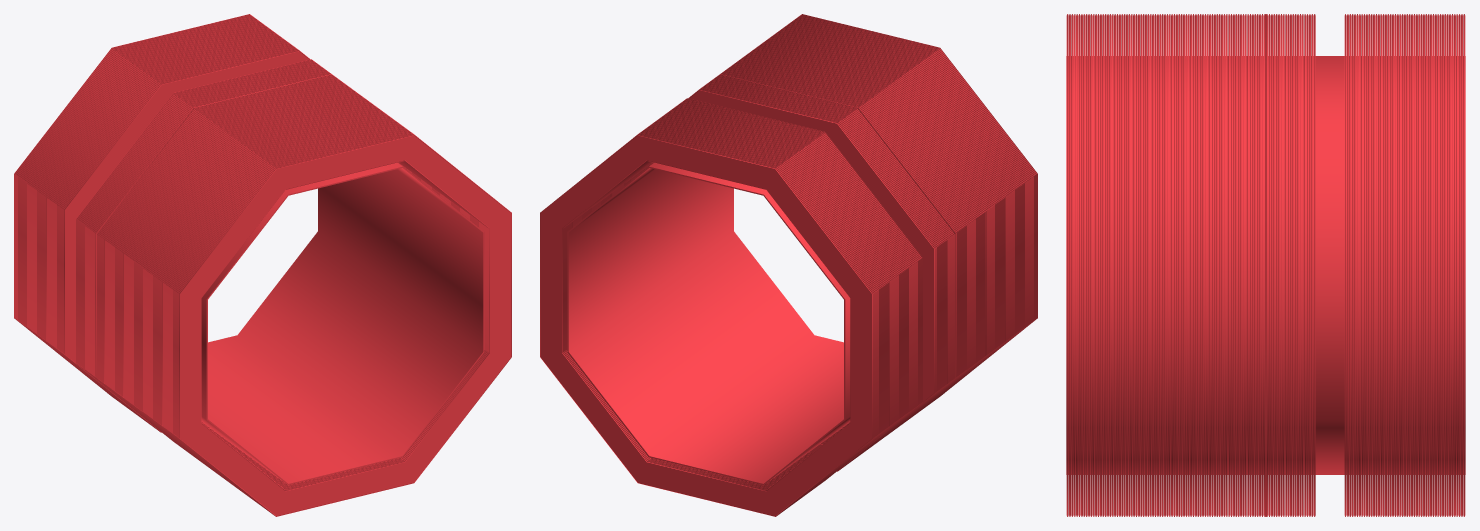
The model's file is L3_original.glb.
The picture shows the model from 3 angles, left to right: view 1: azimuth 30°, elevation 25°; view 2: azimuth 150°, elevation 25°; view 3: azimuth 270°, elevation 25°; orthographic projection. The views are drawn at different scales.
Parts seen in each view (by area): view 1: Mesh_0, L3C0_1.335, L3C0_1.101, L3CCO_1.335, L3CCI_1.335, L3CCO_1.101, L3CCO_1.049, L3CCO_1.055, L3CCO_1.191, L3CCO_1.077, L3CCO_1.299, L3CCO_1.309 (+150 smaller); view 2: Mesh_0, L3C0_1.001, L3C0_1.127, L3CCO_1.001, L3CCI_1.001, L3CCO_1.127, L3CCO_1.281, L3CCO_1.289, L3CCO_1.037, L3CCO_1.005, L3CCO_1.145, L3CCO_1.287 (+150 smaller); view 3: Mesh_0, L3C0_1.199, L3C0_1.201, L3C0_1.215, L3C0_1.217, L3C0_1.231, L3C0_1.233, L3C0_1.023, L3C0_1.247, L3C0_1.249, L3C0_1.025, L3C0_1.263 (+303 smaller).
Part boxes in pixels (x1,y1,x2,y2): Mesh_0: (201,163,484,485); L3C0_1.335: (179,135,511,515); L3C0_1.101: (64,51,309,362); L3CCO_1.335: (178,134,511,516); L3CCI_1.335: (201,160,489,490); L3CCO_1.101: (63,50,310,432); L3CCO_1.049: (37,31,273,348); L3CCO_1.055: (40,33,276,351); L3CCO_1.191: (107,82,343,446); L3CCO_1.077: (51,41,287,423); L3CCO_1.299: (160,121,396,488); L3CCO_1.309: (165,125,401,492); Mesh_0: (567,163,850,485); L3C0_1.001: (540,135,872,515); L3C0_1.127: (612,90,934,452); L3CCO_1.001: (540,134,873,516); L3CCI_1.001: (562,160,850,490); L3CCO_1.127: (688,89,935,471); L3CCO_1.281: (775,33,1011,351); L3CCO_1.289: (779,30,1015,390); L3CCO_1.037: (655,121,891,488); L3CCO_1.005: (639,133,875,500); L3CCO_1.145: (708,82,944,446); L3CCO_1.287: (778,31,1014,348); Mesh_0: (1066,56,1465,474); L3C0_1.199: (1228,15,1230,515); L3C0_1.201: (1225,15,1227,515); L3C0_1.215: (1209,15,1211,515); L3C0_1.217: (1206,15,1208,515); L3C0_1.231: (1190,15,1192,515); L3C0_1.233: (1187,15,1189,515); L3C0_1.023: (1437,15,1439,515); L3C0_1.247: (1171,15,1173,515); L3C0_1.249: (1168,15,1170,515); L3C0_1.025: (1434,15,1436,515); L3C0_1.263: (1152,15,1154,515).
Bounding box in the file's own units: 1371 × 1371 × 1176.
